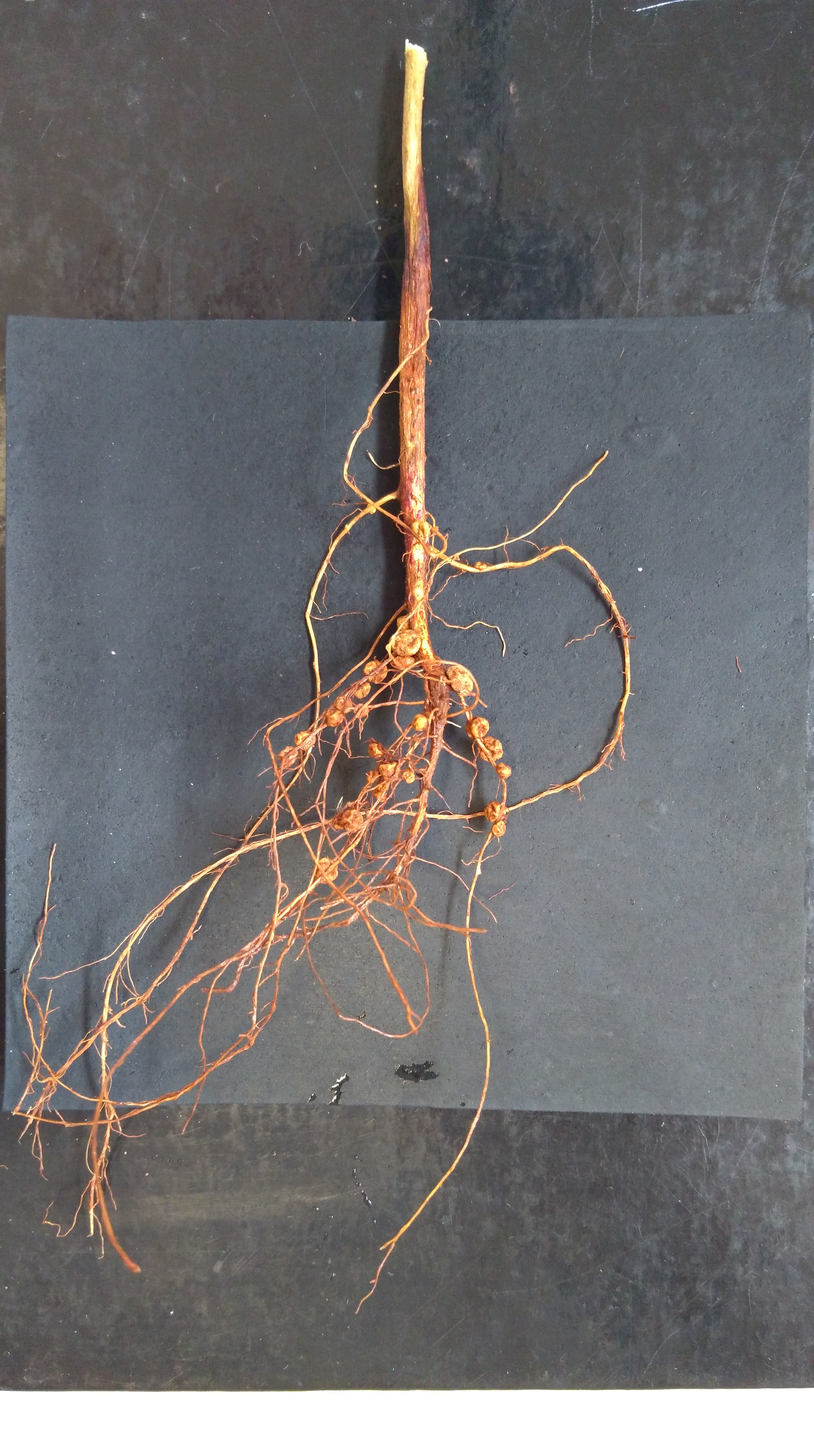nodule: (444, 664, 474, 696), (388, 628, 421, 657), (311, 856, 340, 885), (476, 735, 504, 764), (333, 808, 365, 833), (362, 659, 389, 684), (464, 715, 490, 738), (292, 728, 316, 751), (277, 745, 298, 770), (483, 800, 501, 824), (371, 779, 388, 804), (324, 708, 345, 728), (409, 712, 429, 732), (333, 696, 353, 715), (353, 681, 372, 700), (378, 760, 398, 778), (391, 655, 416, 668), (495, 762, 513, 780), (366, 741, 383, 760), (394, 613, 410, 632), (491, 819, 507, 837), (353, 703, 370, 718), (418, 521, 432, 537), (401, 770, 415, 784), (365, 769, 378, 784), (366, 502, 377, 516), (473, 560, 488, 570), (410, 519, 419, 535)
